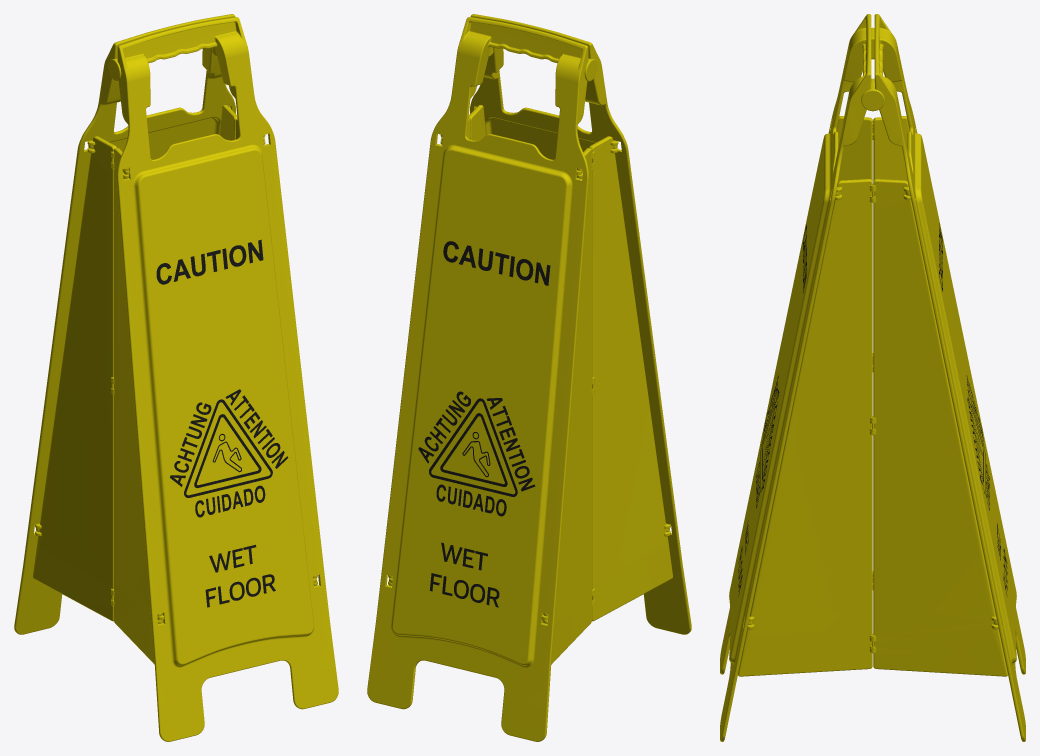
File: sign_warning_a04.glb
The picture shows the model from 3 angles, left to right: view 1: azimuth 30°, elevation 25°; view 2: azimuth 150°, elevation 25°; view 3: azimuth 270°, elevation 25°; orthographic projection. The views are drawn at different scales.
Parts seen in each view (by area): view 1: sm_sign_wetFloor_a01_mesh_00; view 2: sm_sign_wetFloor_a01_mesh_00; view 3: sm_sign_wetFloor_a01_mesh_00.
Boxes of the visible parts, x1,y1,x2,y2 form: sm_sign_wetFloor_a01_mesh_00: (14, 14, 338, 741); sm_sign_wetFloor_a01_mesh_00: (367, 14, 691, 741); sm_sign_wetFloor_a01_mesh_00: (720, 14, 1025, 741).
Bounding box in the file's own units: 0.28 × 0.9598 × 0.4029.
